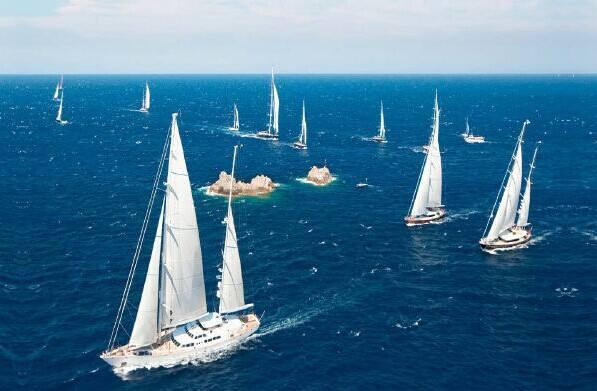fanchuan: (97, 105, 260, 373), (477, 118, 551, 251), (402, 90, 453, 229), (257, 69, 284, 139), (296, 99, 314, 150), (373, 99, 393, 142), (461, 118, 487, 144), (54, 91, 71, 125), (138, 79, 152, 114), (230, 101, 243, 135), (49, 80, 61, 103)
